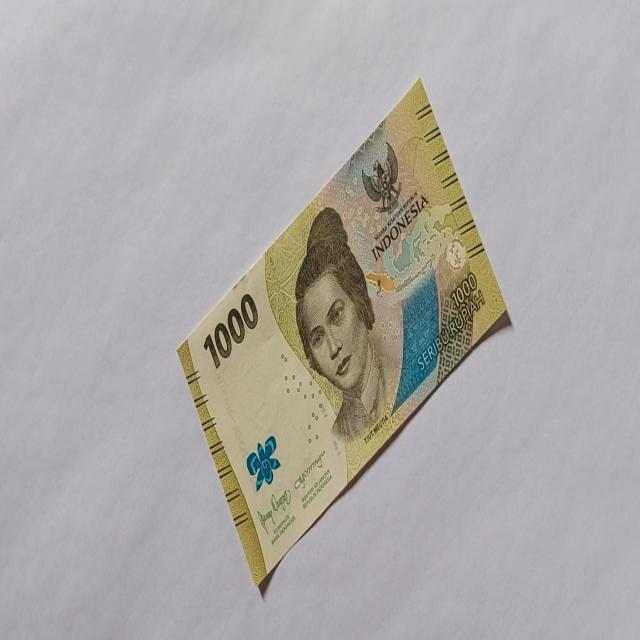seribu rupiah kertas: (175, 76, 512, 593)
